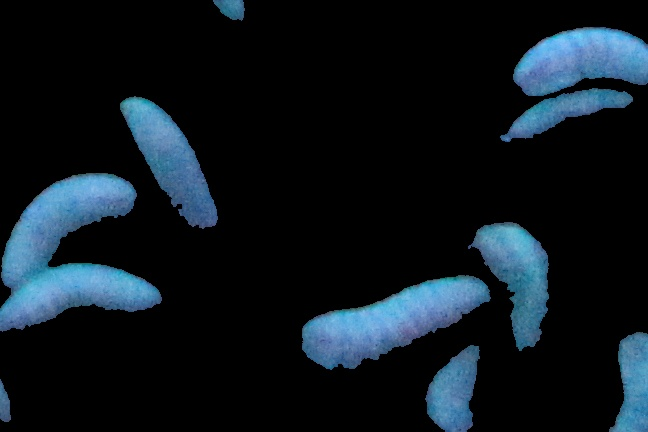larvae: (300, 275, 490, 370), (1, 170, 142, 284), (116, 93, 222, 235), (463, 222, 552, 363), (1, 266, 156, 334), (513, 27, 646, 97), (499, 89, 635, 144), (423, 347, 481, 432)
